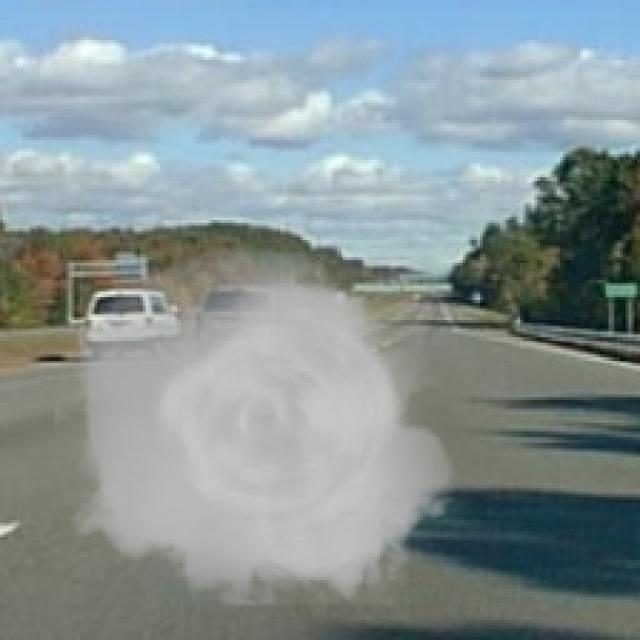smoke: (54, 245, 469, 606)
